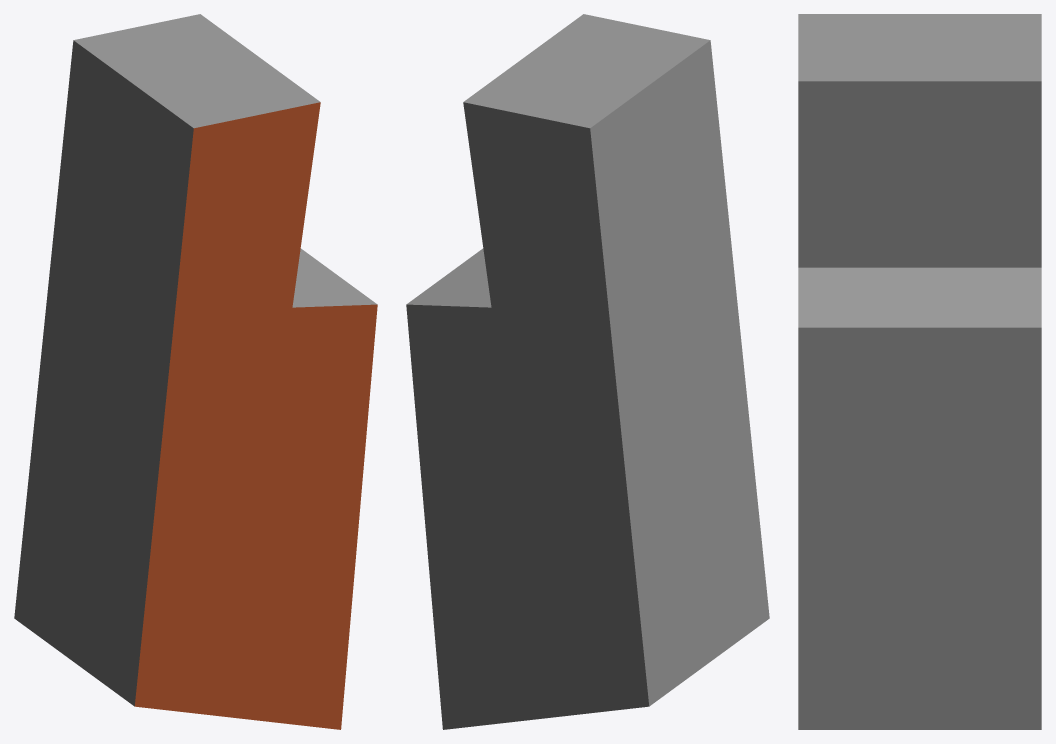
Rendered from construction_2838_assumed_A_Casa_h6m.obj.
3 renders of one model, left to right at view 1: azimuth 30°, elevation 25°; view 2: azimuth 150°, elevation 25°; view 3: azimuth 270°, elevation 25°, orthographic.
Parts seen in each view (by area): view 1: construction_2838_assumed_A_Casa; view 2: construction_2838_assumed_A_Casa; view 3: construction_2838_assumed_A_Casa.
Part boxes in pixels (x1,y1,x2,y2): construction_2838_assumed_A_Casa: (14,14,377,729); construction_2838_assumed_A_Casa: (406,14,769,729); construction_2838_assumed_A_Casa: (798,14,1041,729).
Size of the model in its own units: 6.99 by 17.52 by 6.
